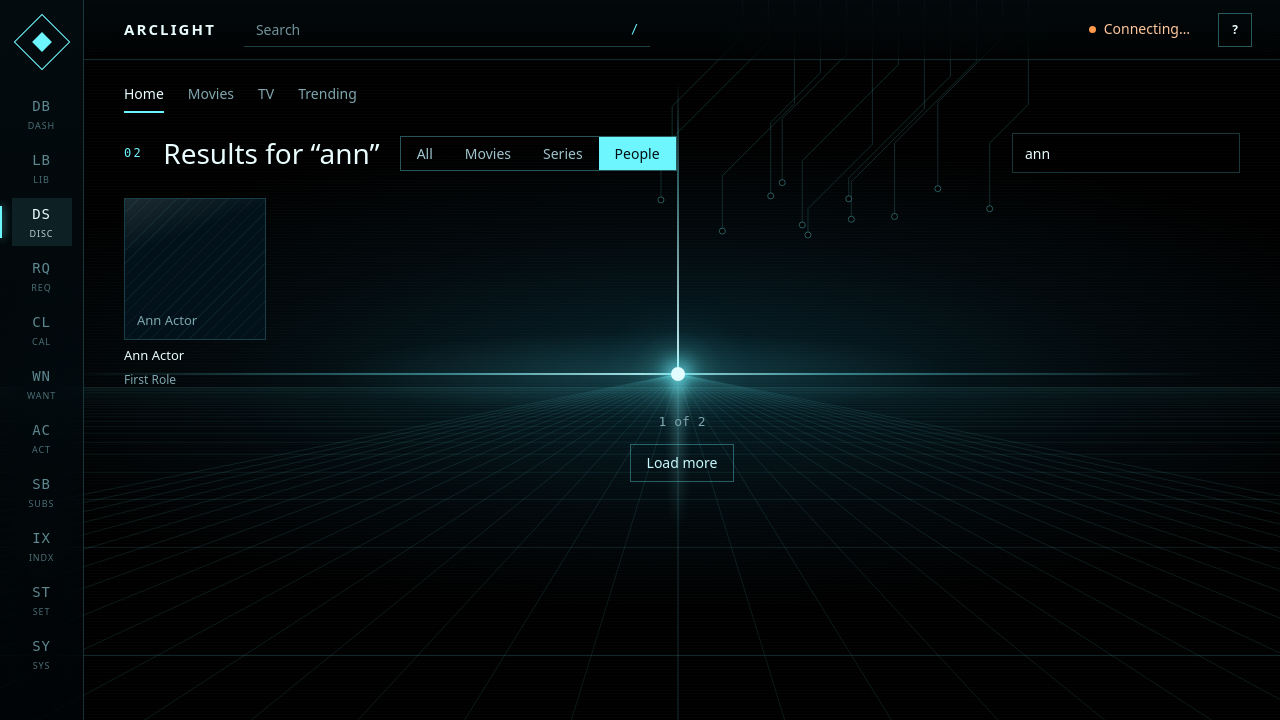
search, title, collection › searches people on the results page
The image size is (1280, 720).
Check: the text "First Role" is shown, box [124,371,176,388]
Click the button "Load more": (682, 463) [630,444,734,482]
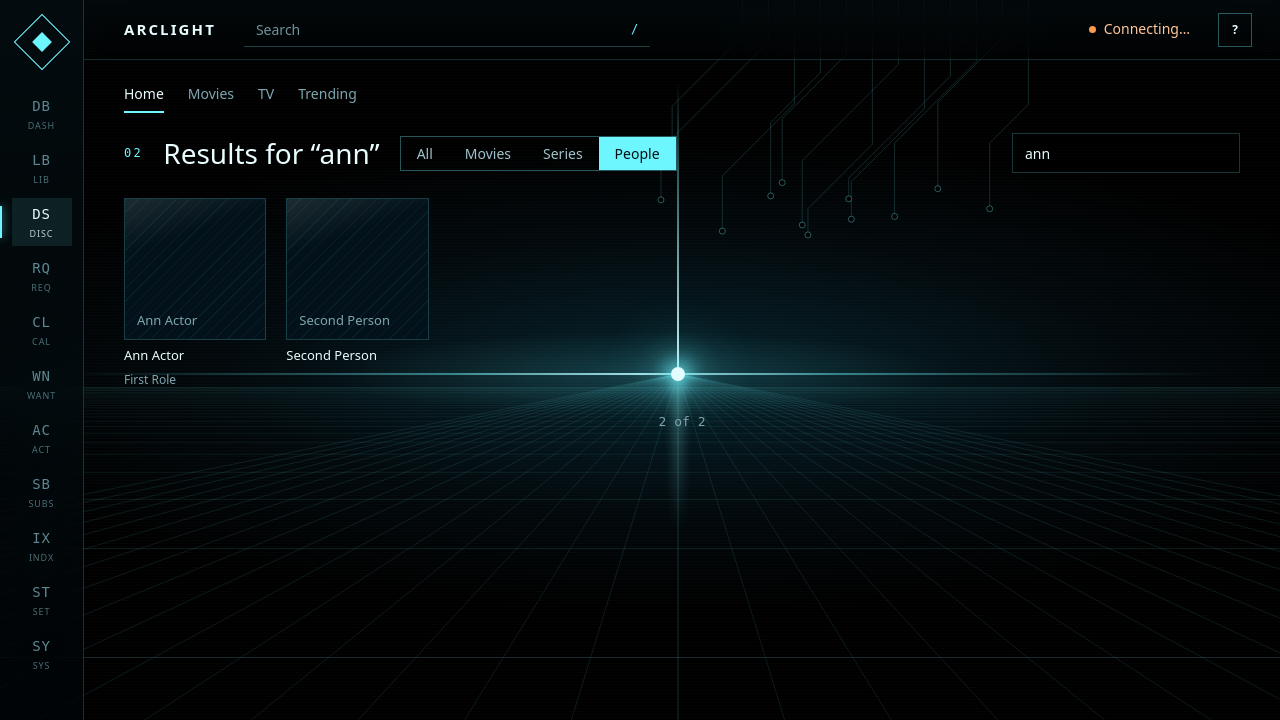
Check: the element "Second Person" is shown, box [286,198,429,388]
